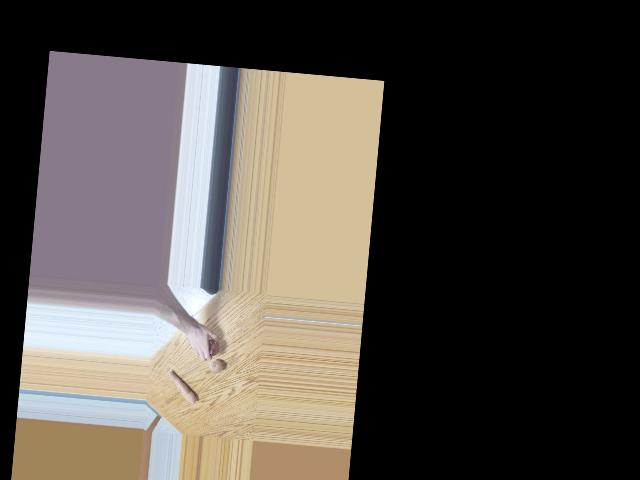onion: (205, 339, 218, 356)
